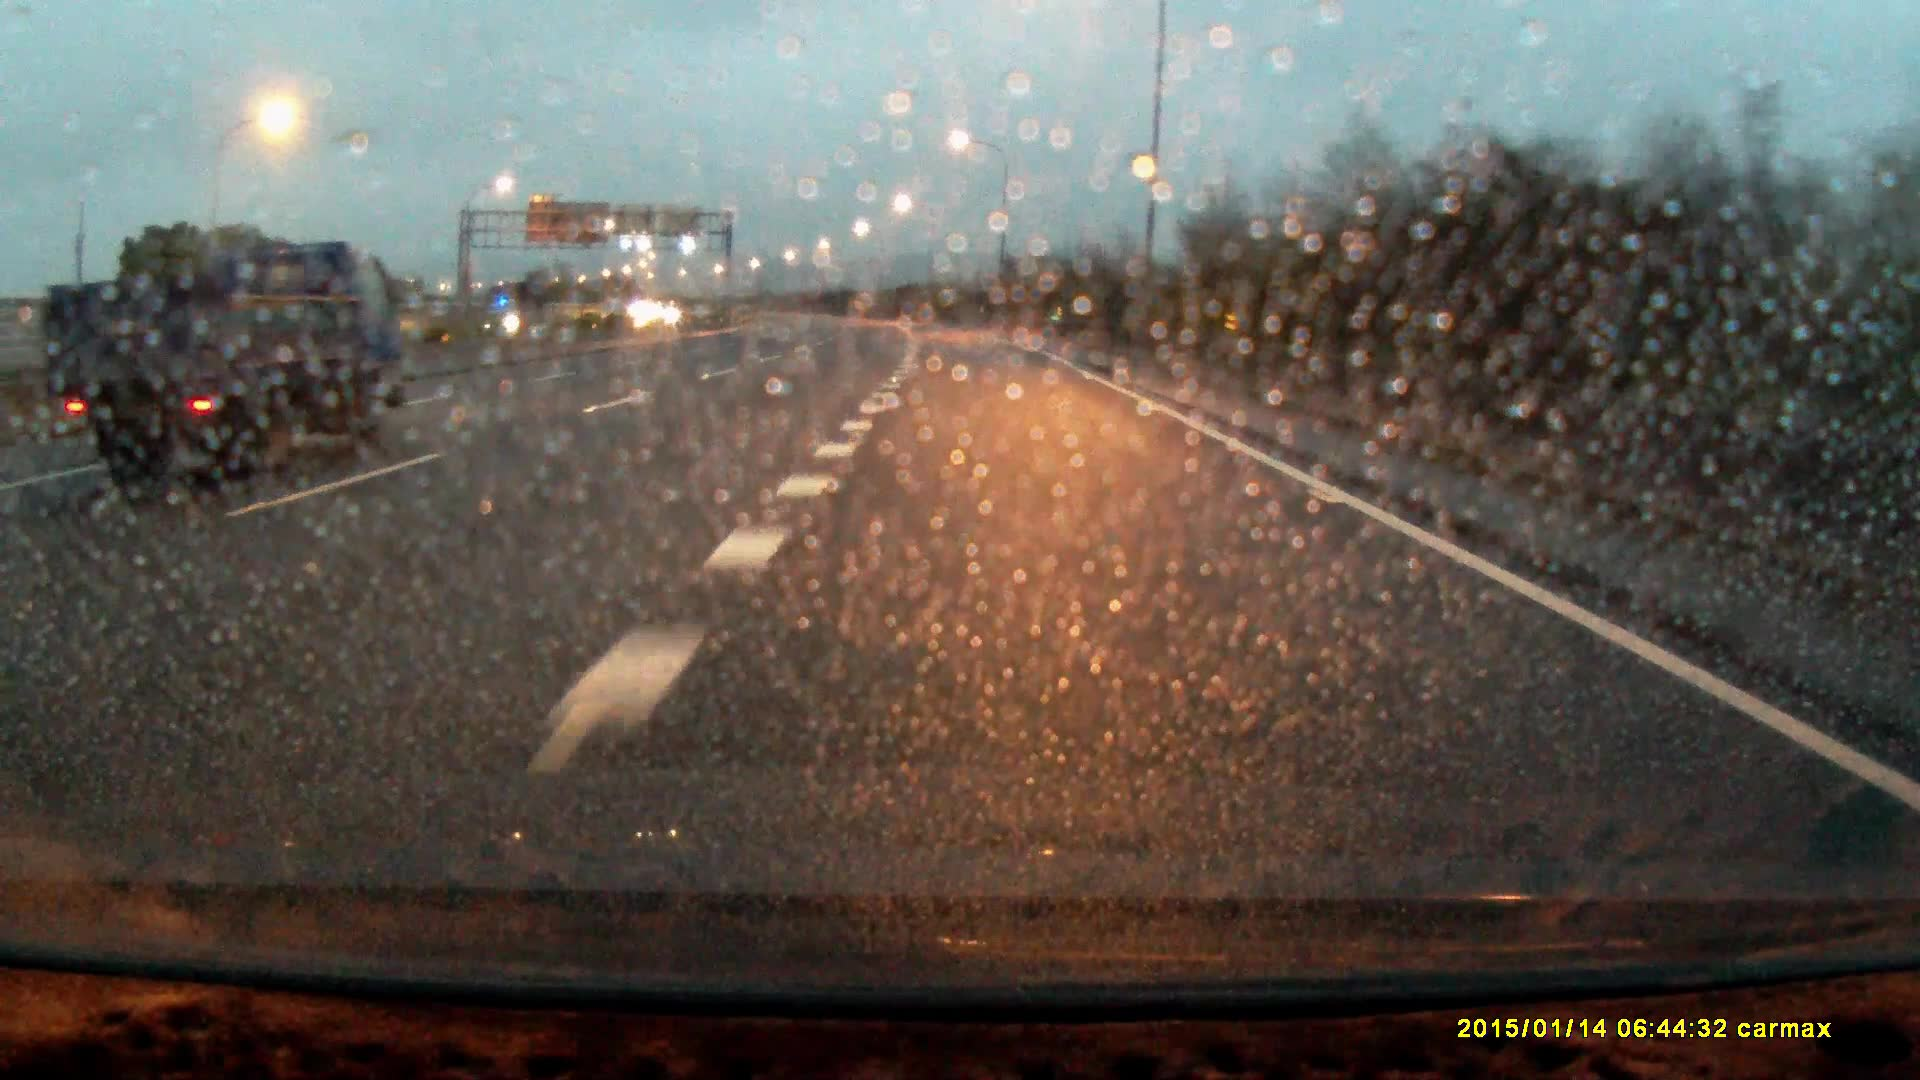vehicle: (49, 228, 394, 496)
